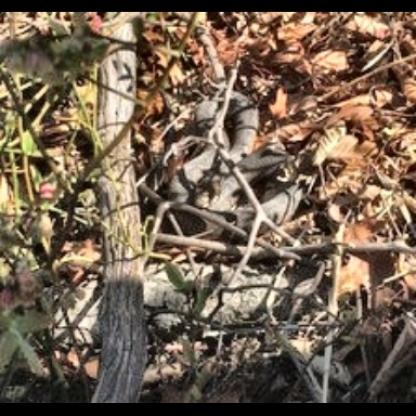Snake: (162, 81, 320, 243)
